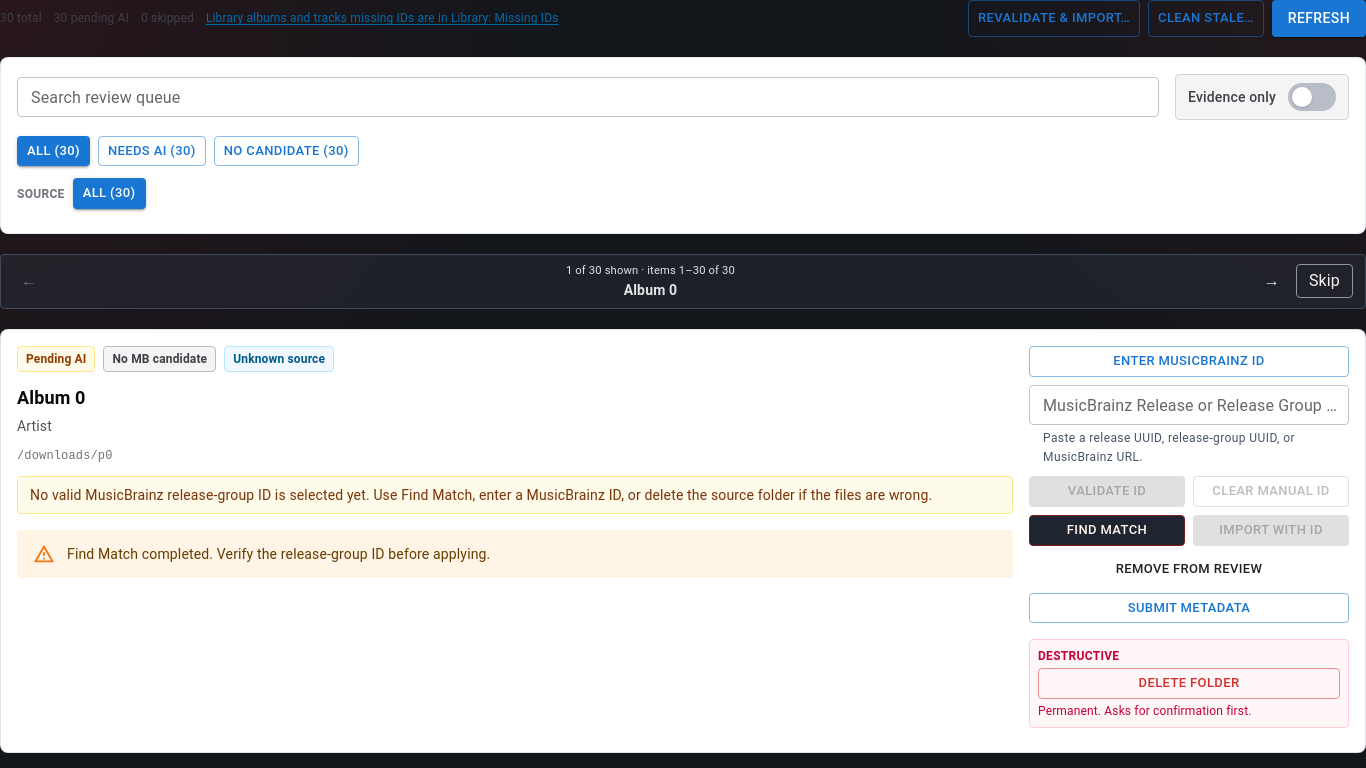
Test: Revalidate & Import: synchronous and job forms (#396 B1) › a failed job reports its last log line and reloads the queue
Click the button "Revalidate & Import…" at (1054,18), box [968, 0, 1140, 36]
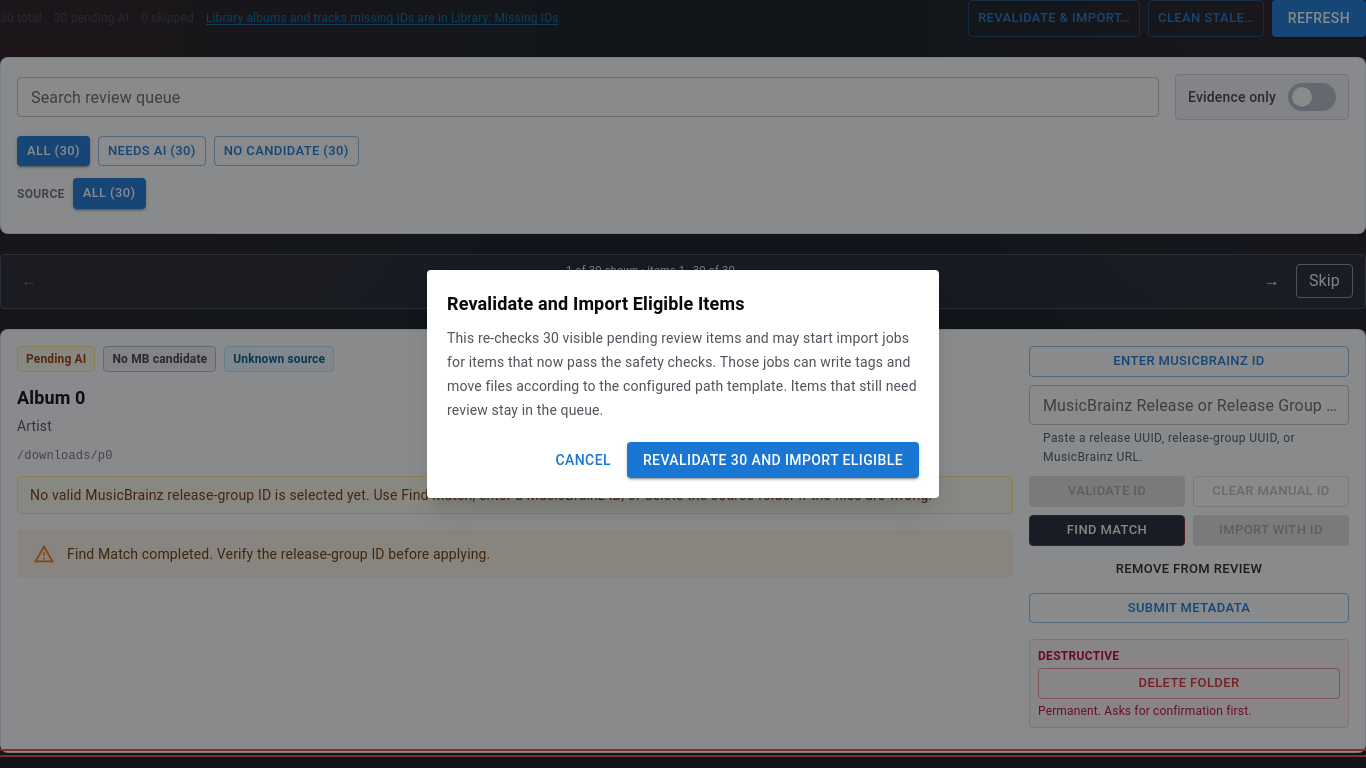
Click the button "Revalidate 30 and import eligible" at (773,460), box [627, 442, 919, 478]
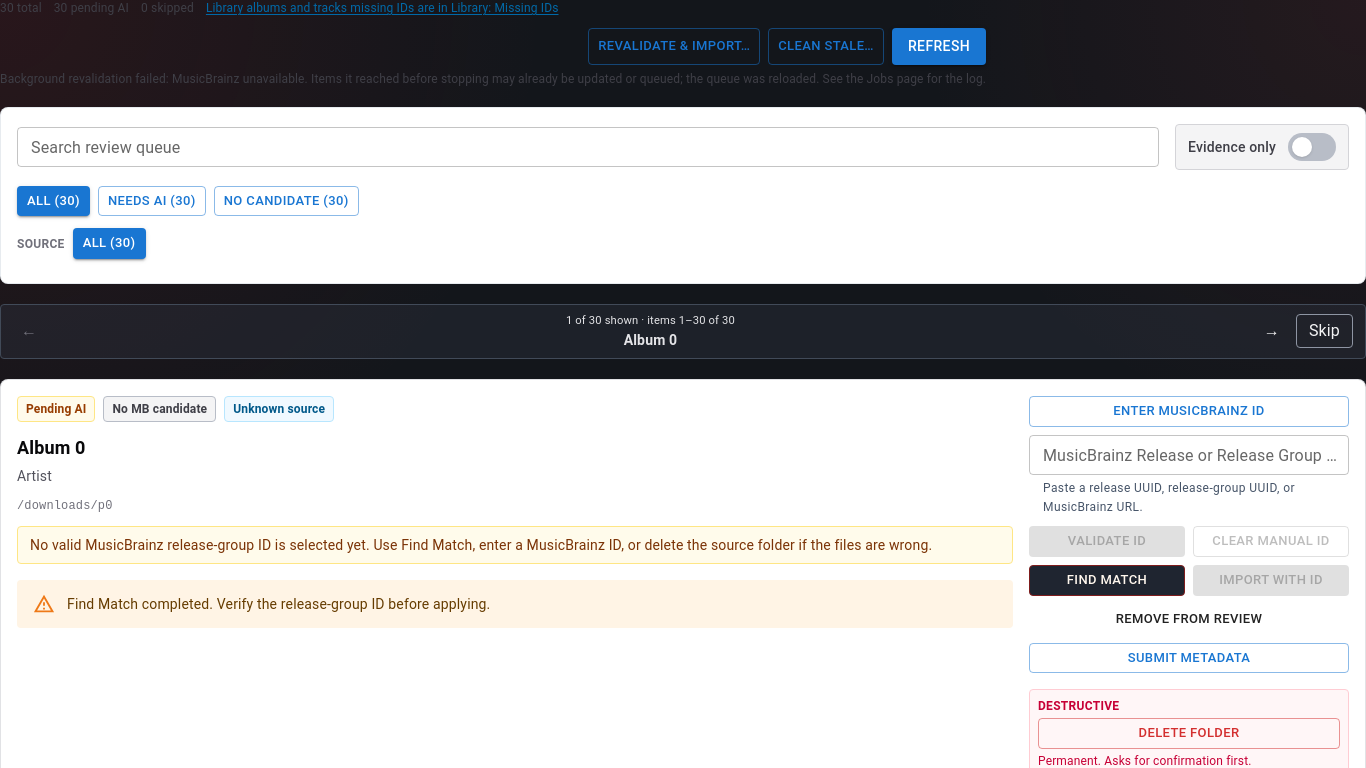
expect the text "Background revalidation failed: MusicBrainz unavailable. Items it reached" is shown: met, box [0, 72, 986, 86]
